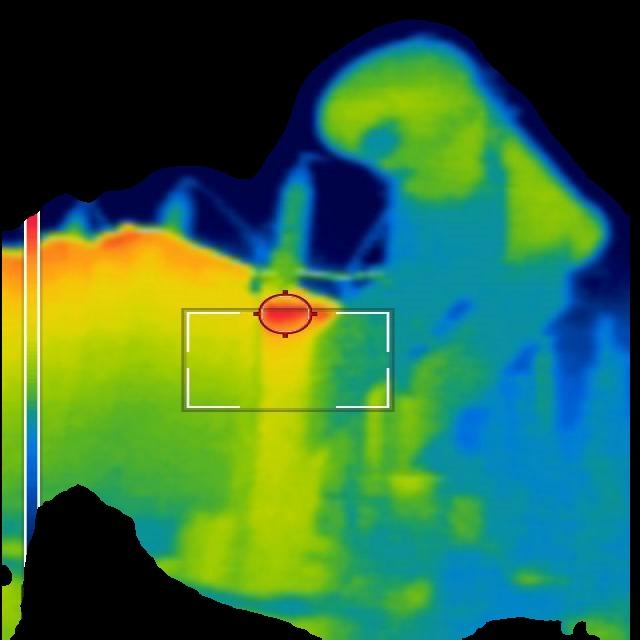Loose Joint F: (254, 294, 335, 331)
Transformer Overload: (0, 228, 344, 554)
